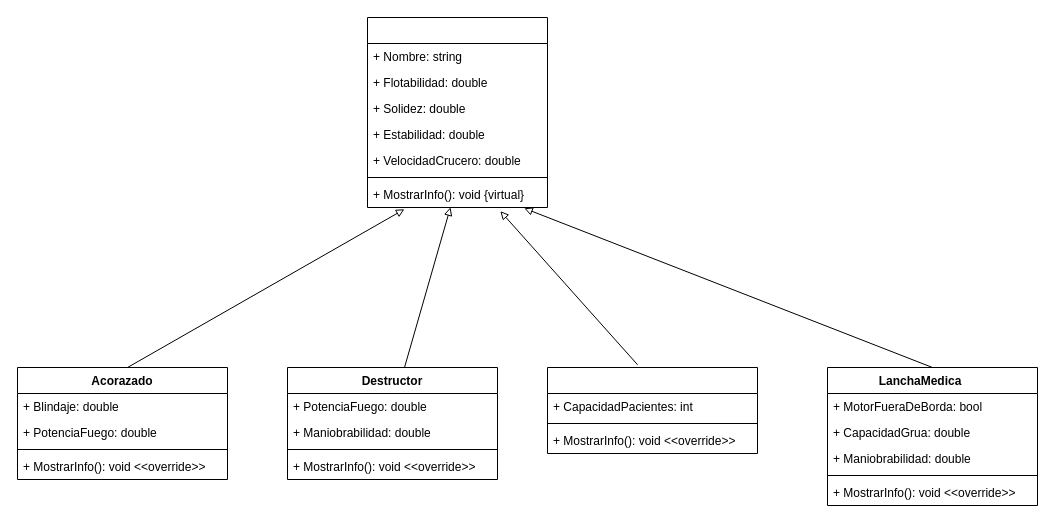
Some shapes in this 1055 by 526 pixel diagram are drawn without their labels. Here are the shapes that lost their labels. From the top down, the box of each, then its label:
(366, 16, 548, 208): Barco
(546, 366, 758, 454): BarcoHospital
